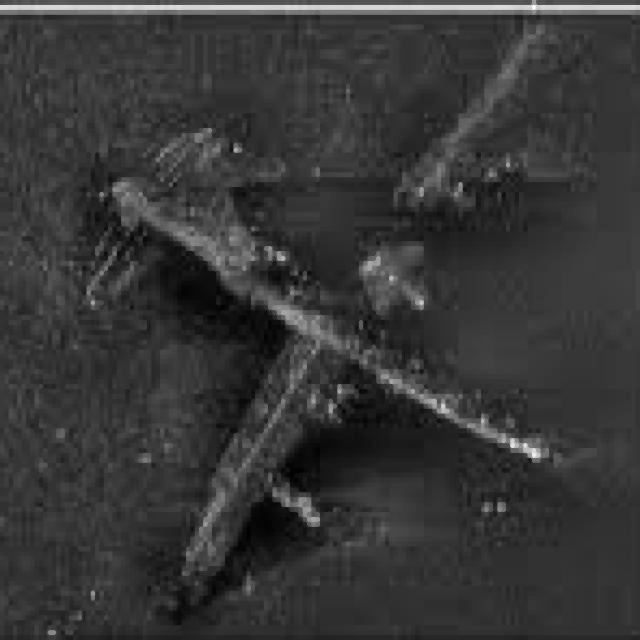Plane: (98, 22, 565, 626)
